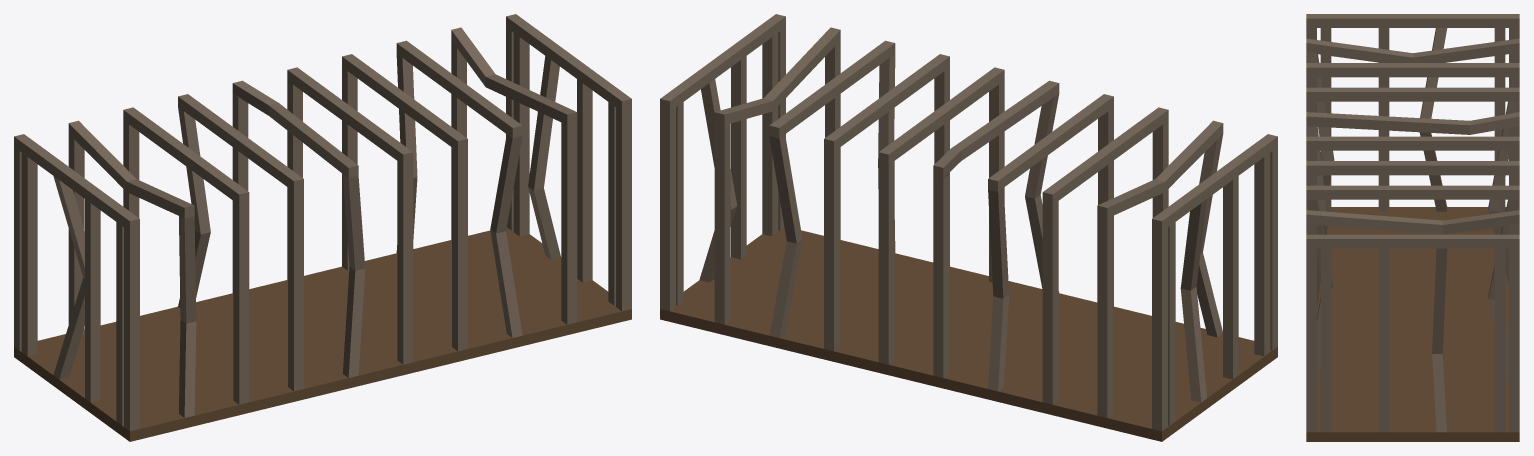
File: Cage_5_Brown.fbx
3 views of the same model, side by side, from view 1: azimuth 30°, elevation 25°; view 2: azimuth 150°, elevation 25°; view 3: azimuth 270°, elevation 25° (orthographic). The views are drawn at different scales.
Parts seen in each view (by area): view 1: Cage_5_Brown_Part_2, Cage_5_Brown_Part_1; view 2: Cage_5_Brown_Part_2, Cage_5_Brown_Part_1; view 3: Cage_5_Brown_Part_2, Cage_5_Brown_Part_1.
Boxes of the visible parts, x1=… form: Cage_5_Brown_Part_2: x1=14, y1=14, x2=631, y2=431; Cage_5_Brown_Part_1: x1=14, y1=227, x2=631, y2=441; Cage_5_Brown_Part_2: x1=660, y1=14, x2=1277, y2=431; Cage_5_Brown_Part_1: x1=660, y1=228, x2=1277, y2=441; Cage_5_Brown_Part_2: x1=1306, y1=14, x2=1519, y2=432; Cage_5_Brown_Part_1: x1=1306, y1=207, x2=1519, y2=441.
Size of the model in its own units: 500 by 210 by 200.
